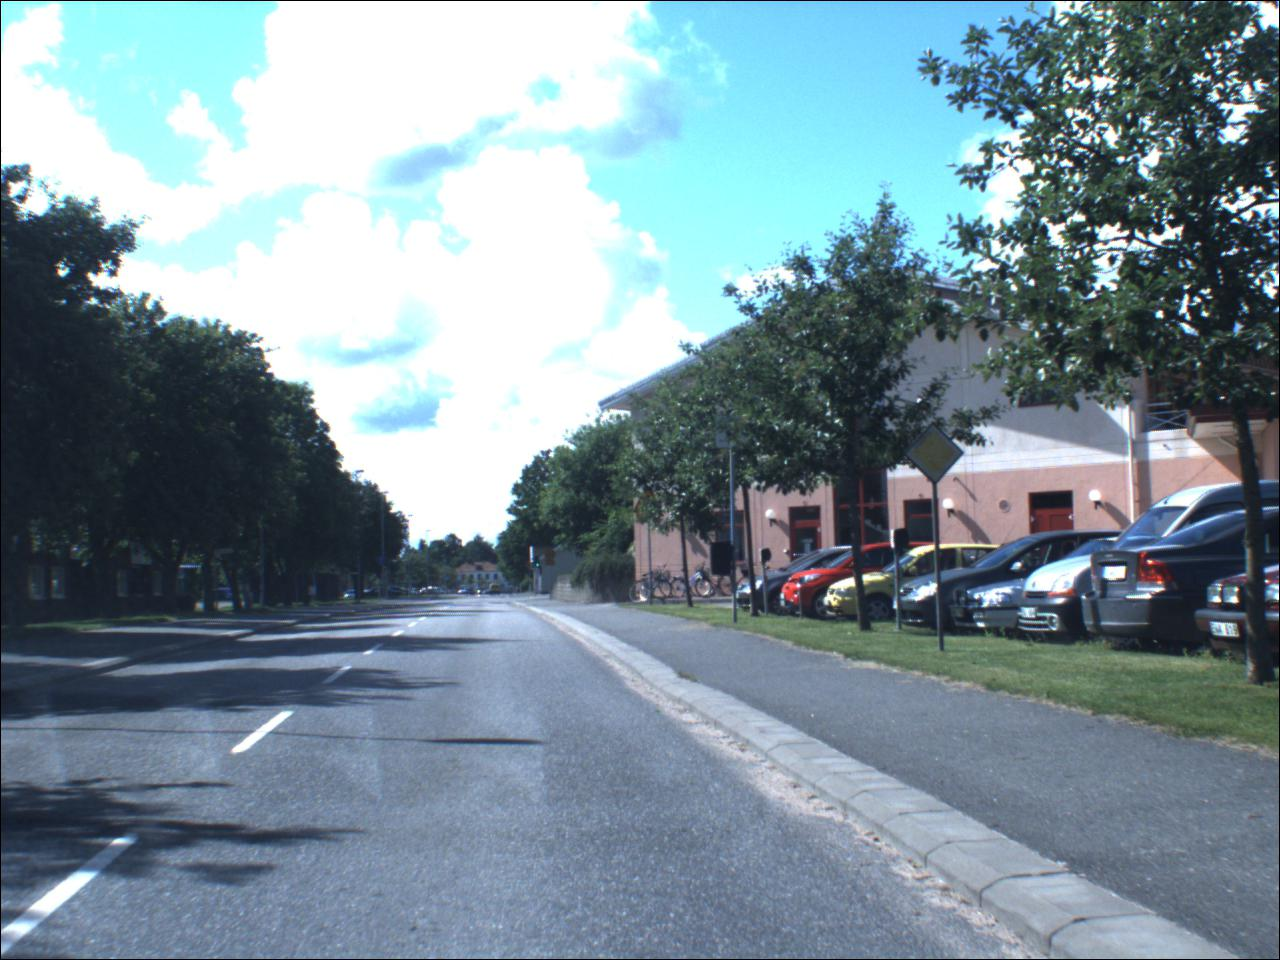PRIORITY_ROAD: (901, 425, 966, 487)
